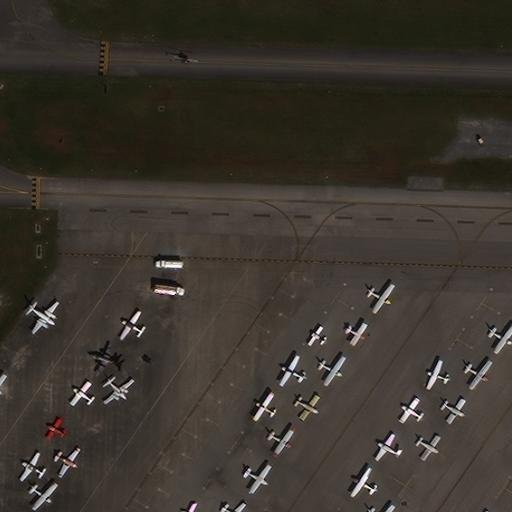Small Civil Transport: (28, 303, 59, 334), (90, 342, 120, 374), (318, 358, 346, 387), (278, 354, 305, 384), (367, 286, 395, 314), (105, 379, 135, 405), (30, 485, 59, 511), (245, 467, 272, 494), (466, 363, 493, 390), (18, 451, 44, 479), (55, 450, 81, 478), (350, 467, 375, 495), (374, 433, 400, 459), (118, 310, 143, 337), (425, 359, 448, 388), (251, 391, 274, 418), (295, 397, 320, 421), (489, 327, 511, 354), (417, 437, 441, 461), (442, 401, 466, 425), (269, 431, 294, 454), (398, 396, 421, 420), (68, 380, 92, 402), (346, 325, 368, 345), (306, 325, 325, 344), (45, 418, 64, 436), (180, 502, 197, 511), (222, 505, 246, 511)
